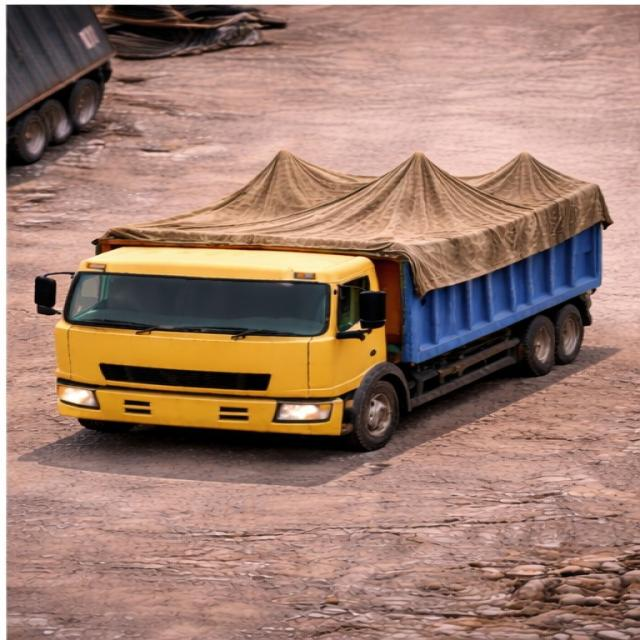Box: (91, 148, 609, 251)
Truck: (31, 137, 616, 450)
